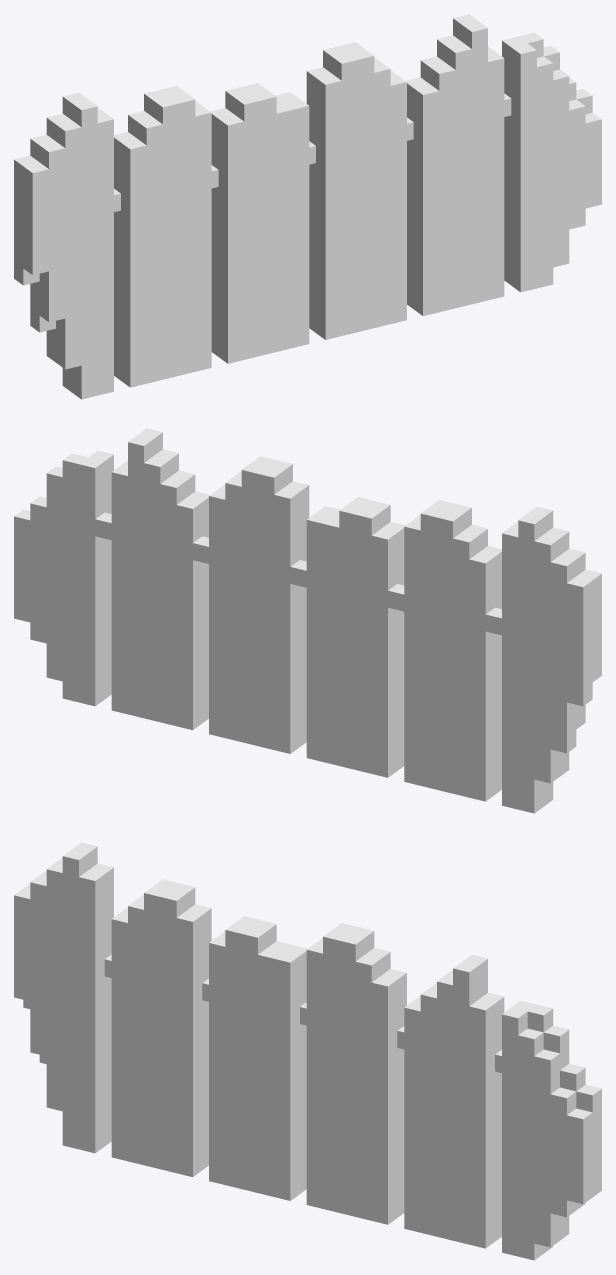
The model's file is Background_A_decowood_04.FBX.
3 views of the same model, one above another, from view 1: azimuth 30°, elevation 25°; view 2: azimuth 150°, elevation 25°; view 3: azimuth 330°, elevation 25° (orthographic).
Parts seen in each view (by area): view 1: Load_A-17; view 2: Load_A-17; view 3: Load_A-17.
Part boxes in pixels (x1=…): Load_A-17: x1=14, y1=14, x2=601, y2=399; Load_A-17: x1=14, y1=428, x2=601, y2=813; Load_A-17: x1=14, y1=842, x2=601, y2=1260.
Bounding box in the file's own units: 3.5 × 1.7 × 0.2.
1 material, 1 textured.
